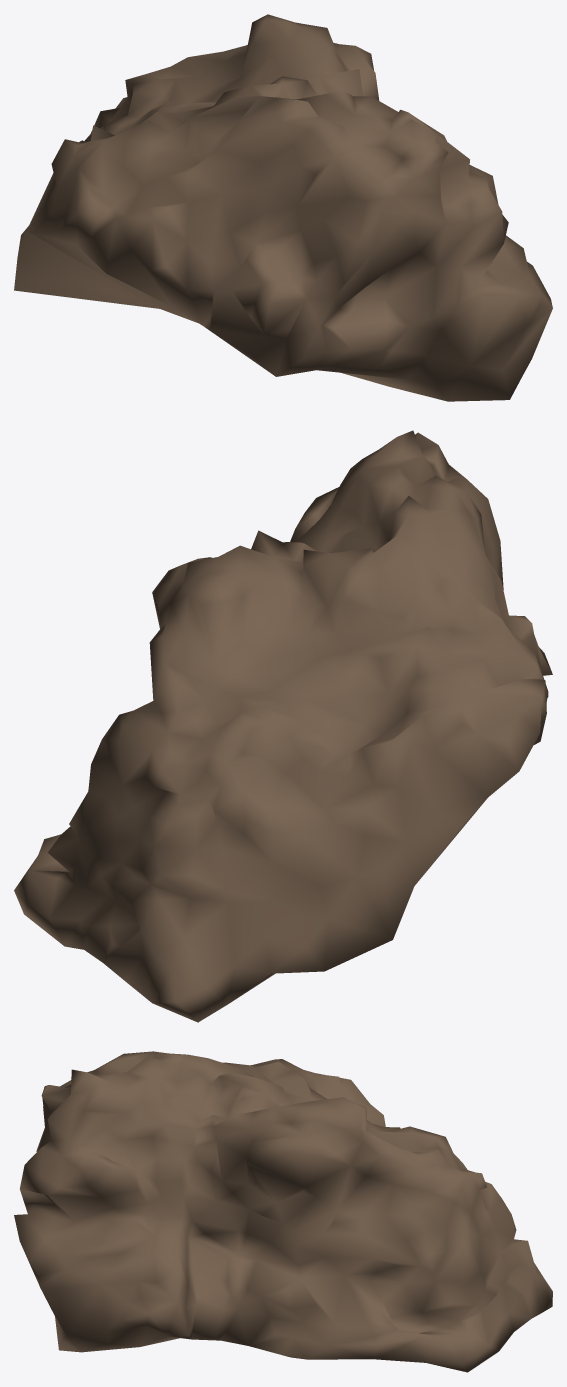
File: BoulderJagged.gltf
The picture shows the model from 3 angles, top to bottom: view 1: azimuth 30°, elevation 25°; view 2: azimuth 150°, elevation 25°; view 3: azimuth 270°, elevation 25°; orthographic projection. The views are drawn at different scales.
Visible parts, largest first — view 1: lo; view 2: lo; view 3: lo.
Boxes of the visible parts, box(x1,y1,x2,y2) form: lo: box(14, 14, 552, 401); lo: box(14, 430, 552, 1022); lo: box(14, 1051, 552, 1372).
Size of the model in its own units: 1.5 by 1.18 by 2.13.
